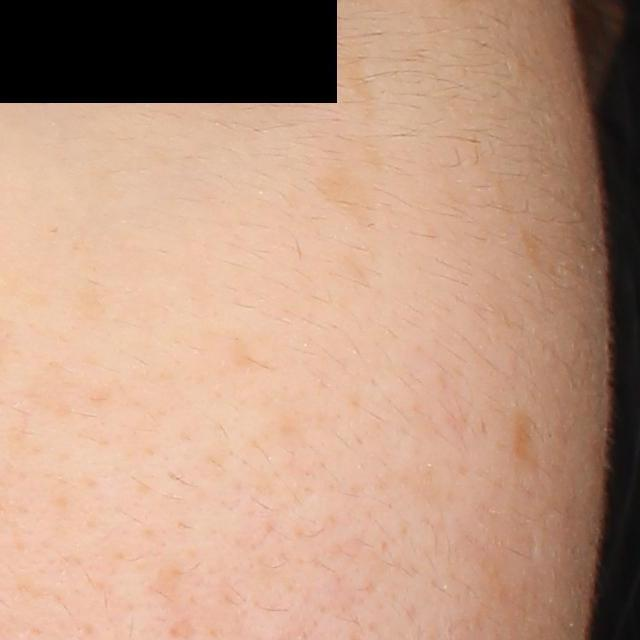melasma: (308, 160, 380, 230), (329, 41, 381, 125), (506, 406, 549, 473), (514, 220, 551, 280)
